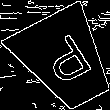P_SE: (33, 29, 97, 91)
